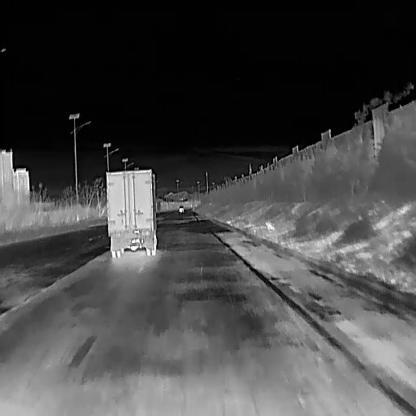car: (105, 168, 160, 257), (178, 204, 183, 212)
